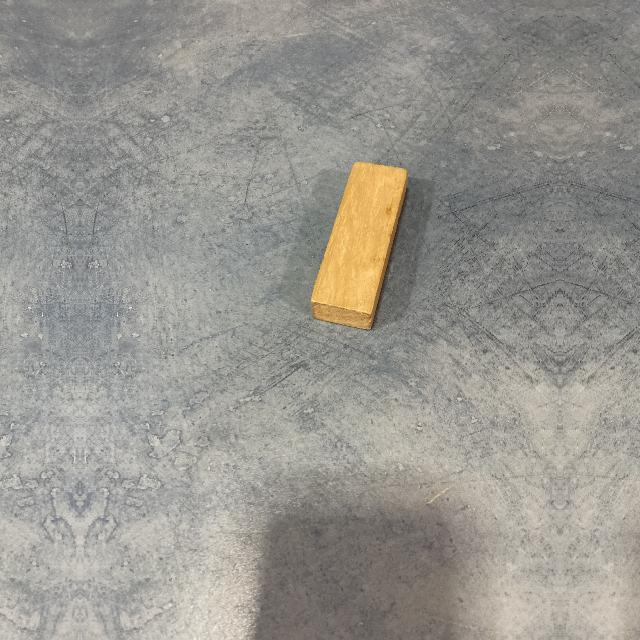jenga: (310, 162, 409, 333)
